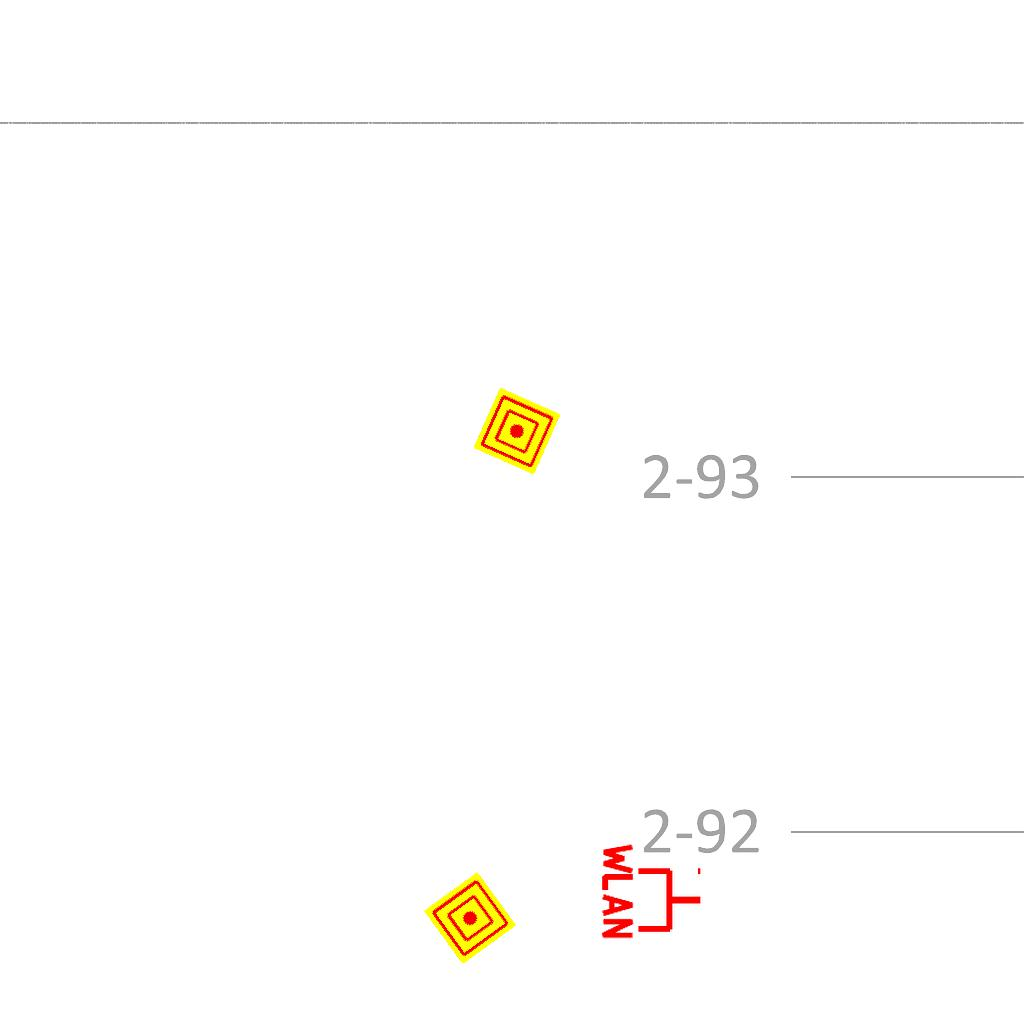NAM-Nichtautomatischer_Melder: (423, 871, 517, 965), (473, 387, 561, 475)
WLAN: (600, 839, 705, 943)
